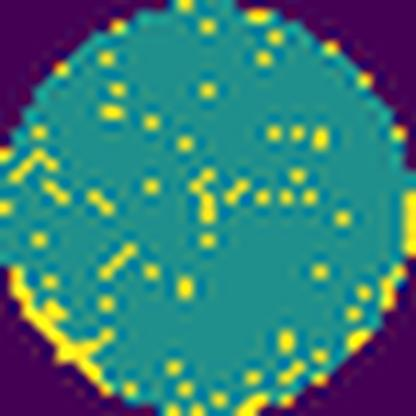Edge-Loc: (8, 262, 115, 396), (401, 184, 416, 261)
